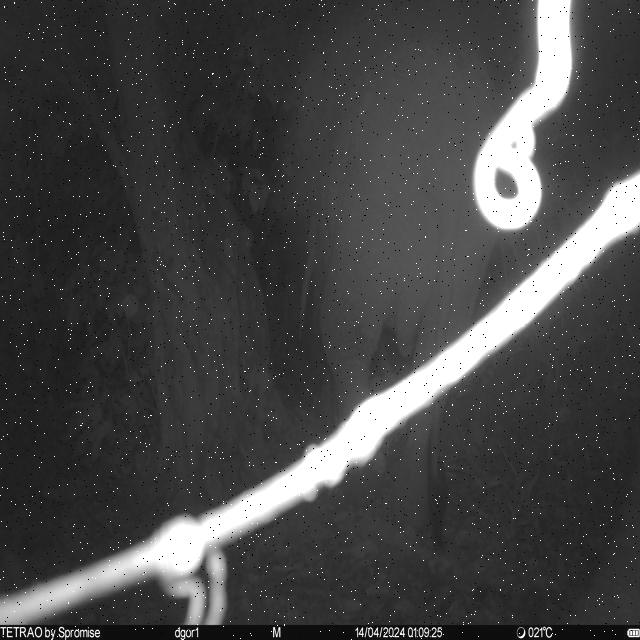elephant: (295, 36, 509, 554)
tusk: (297, 250, 317, 344)
